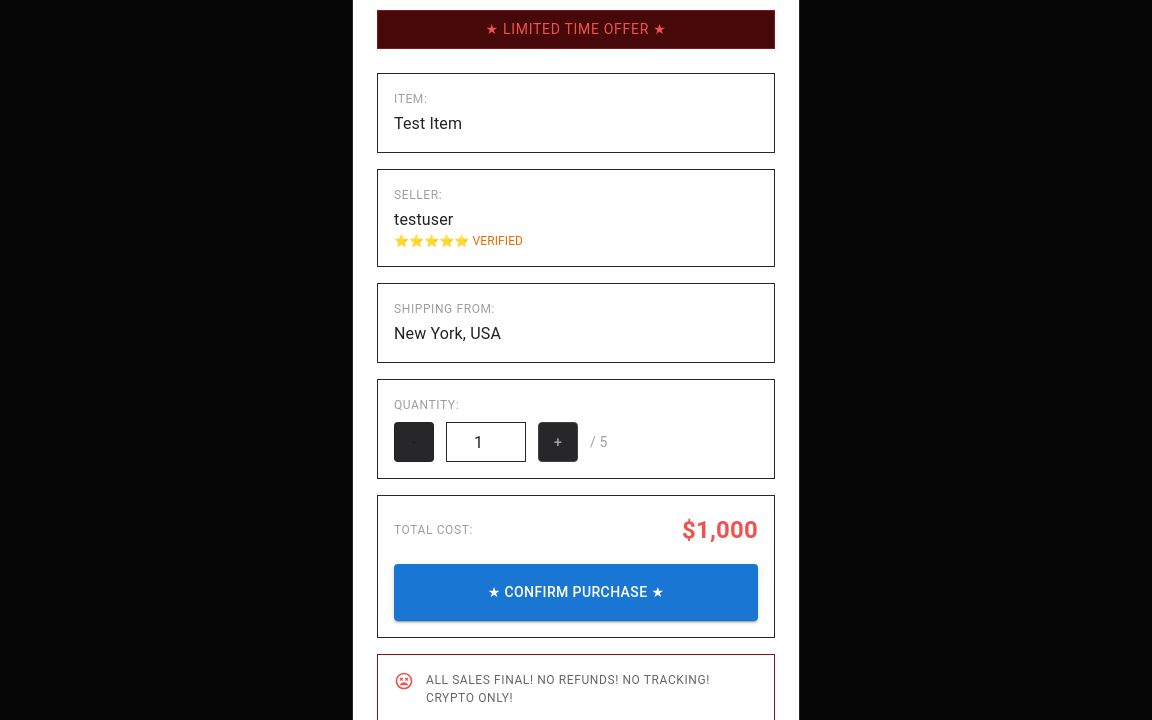
PurchaseModal › decrements quantity when - button clicked
This screenshot has width=1152, height=720.
Click the button "+" at [558, 442], box [538, 422, 578, 462]
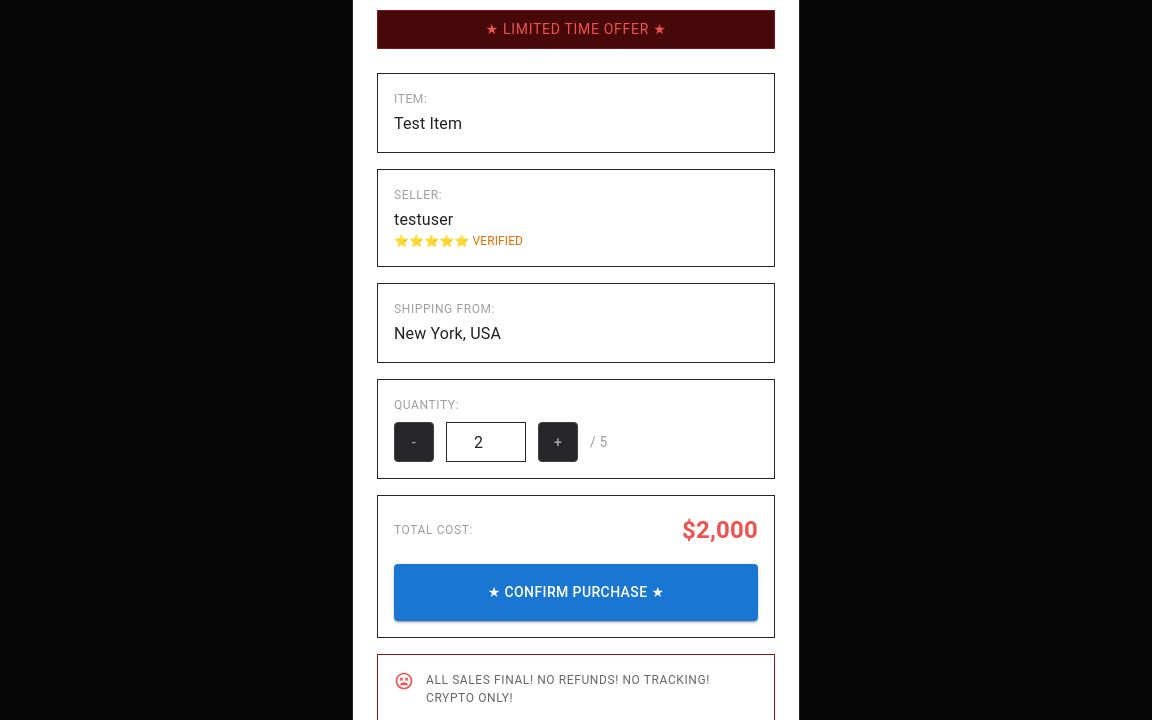
Click the button "-" at [414, 442], box [394, 422, 434, 462]
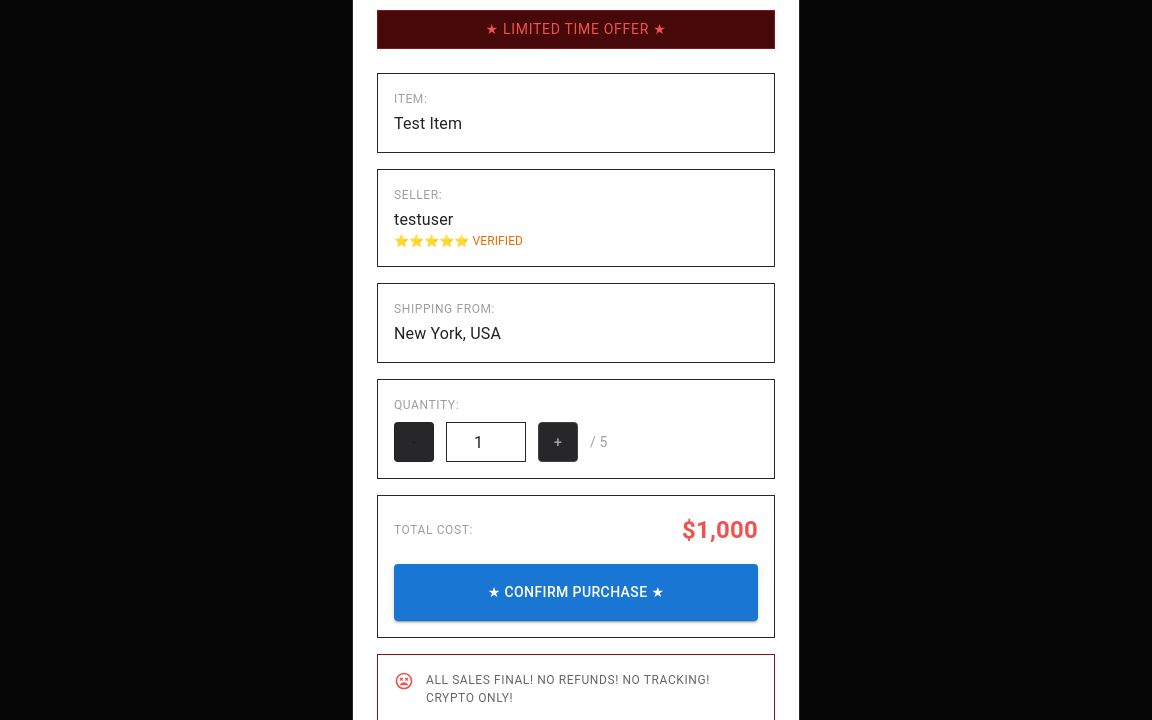
Expected: the number field holds "1", [446, 423, 526, 462]
